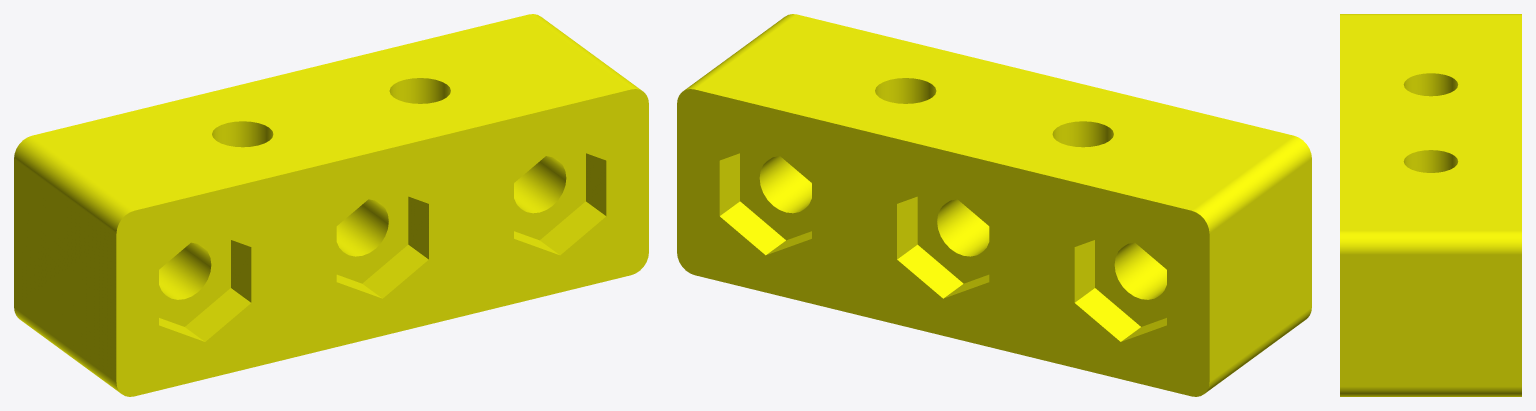
The model's file is I3_yellow.glb.
3 views of the same model, side by side, from view 1: azimuth 30°, elevation 25°; view 2: azimuth 150°, elevation 25°; view 3: azimuth 270°, elevation 25° (orthographic). The views are drawn at different scales.
Parts seen in each view (by area): view 1: I3; view 2: I3; view 3: I3.
Boxes of the visible parts, box(x1,y1,x2,y2) form: I3: box(14, 14, 648, 396); I3: box(677, 14, 1311, 396); I3: box(1340, 14, 1521, 396).
Bounding box in the file's own units: 0.03 × 0.01 × 0.01.
